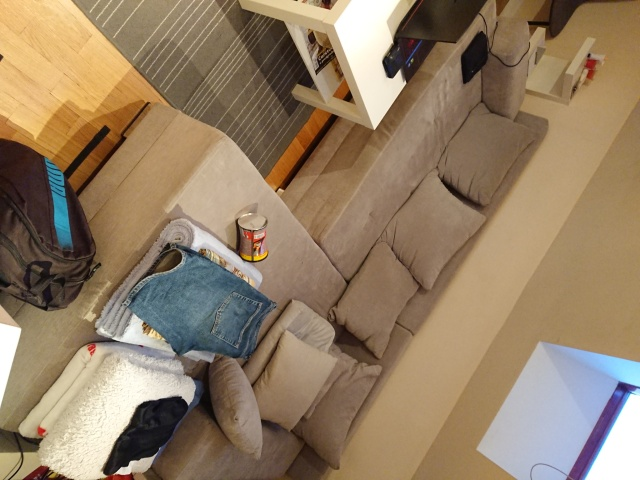Nescafe Classic 225g: (234, 211, 270, 264)
